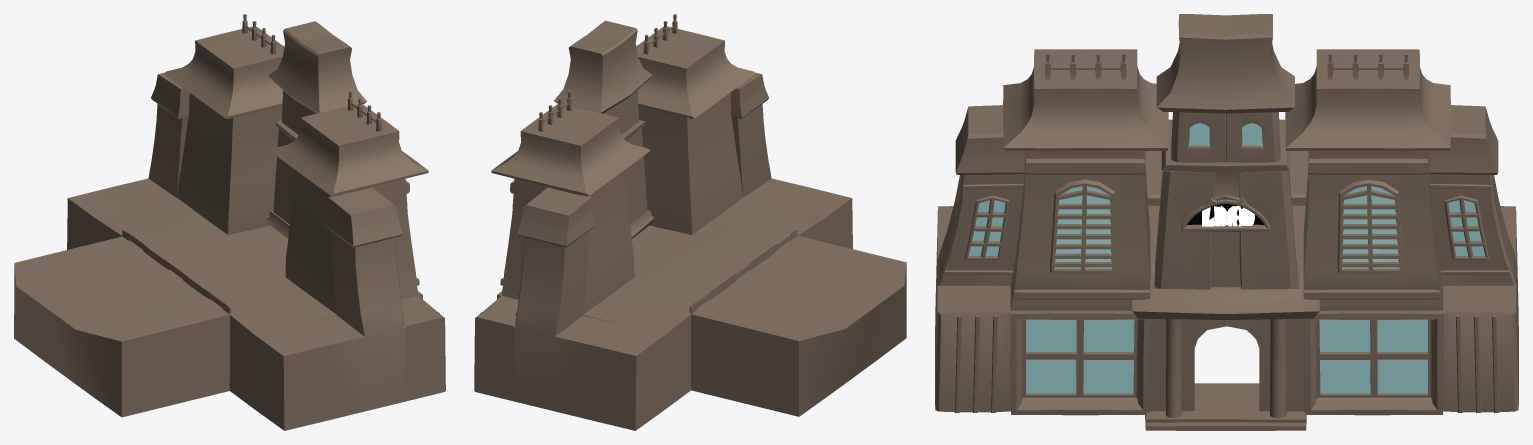
Rendered from SM_Edificio.fbx.
3 renders of one model, left to right at view 1: azimuth 30°, elevation 25°; view 2: azimuth 150°, elevation 25°; view 3: azimuth 270°, elevation 25°, orthographic. The views are drawn at different scales.
Parts seen in each view (by area): view 1: Base_2.001; view 2: Base_2.001; view 3: Base_2.001.
Boxes of the visible parts, x1,y1,x2,y2 form: Base_2.001: (14, 14, 445, 430); Base_2.001: (474, 14, 906, 430); Base_2.001: (935, 14, 1518, 430).
Bounding box in the file's own units: 6160 × 5372 × 7460.
